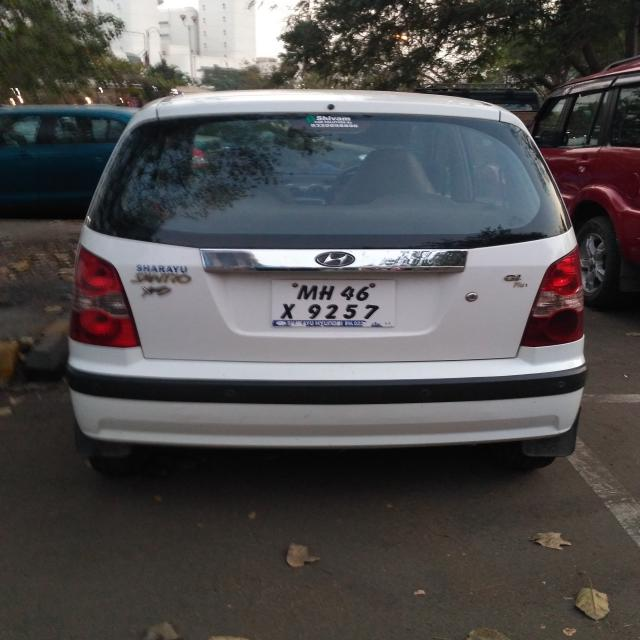Number-Plate: (270, 275, 396, 327)
